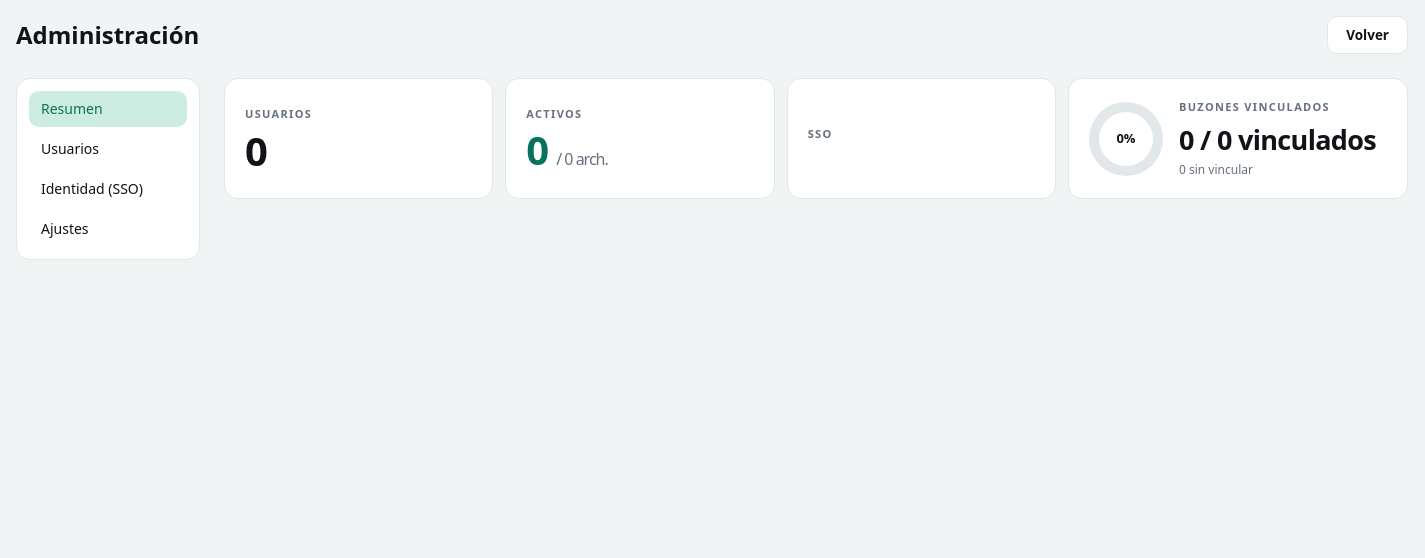
Test: the admin console explains WHY an action was refused (GH #46) › names the self-demotion block
Click the button "Usuarios". click: click(108, 149)
box: [29,131,187,167]
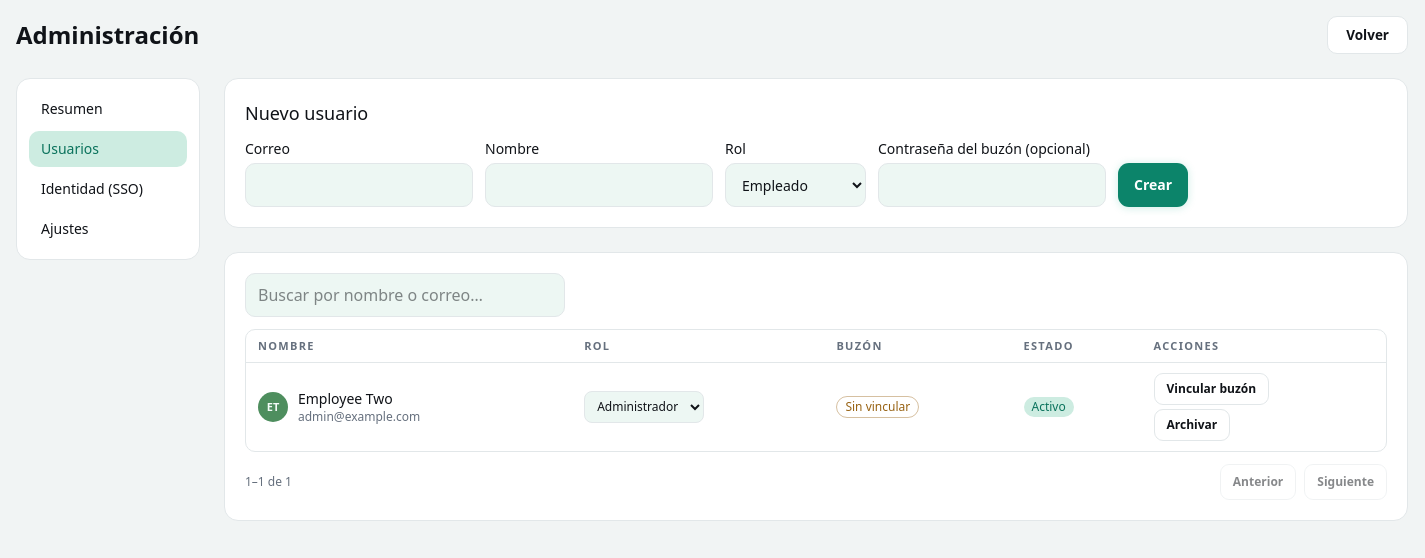
Select "Empleado" in the dropdown named "Rol". click: (644, 407)
box: [584,391,704,423]
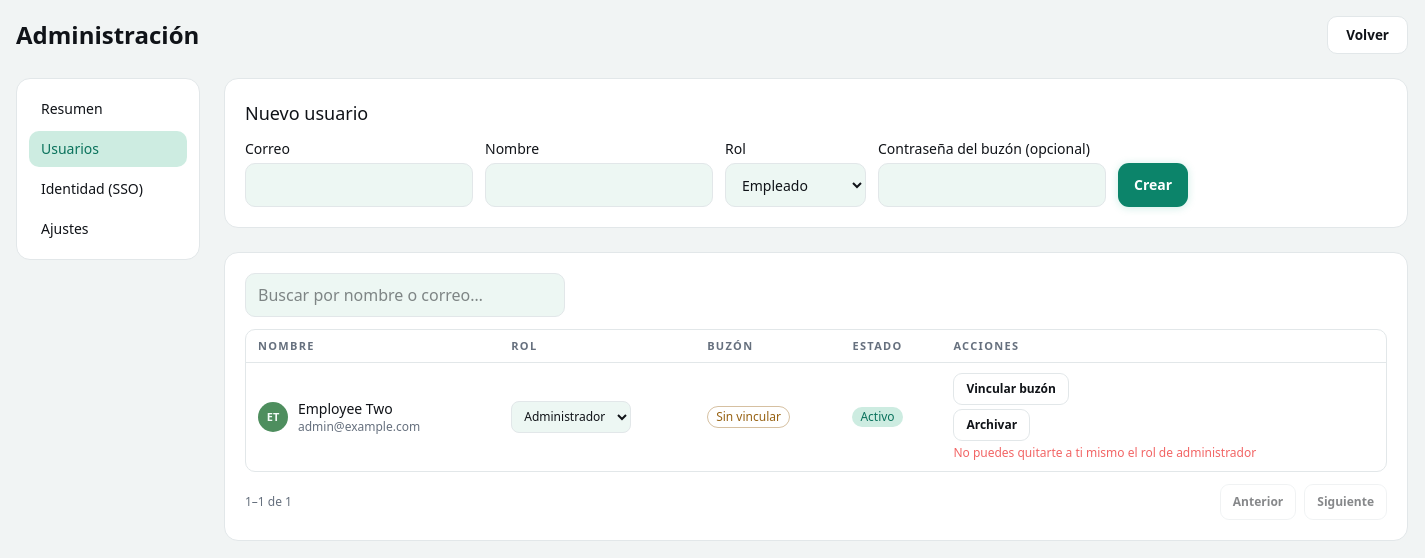
Expected: the text "No puedes quitarte a ti mismo el rol de administrador" is shown, [953,445,1256,461]
